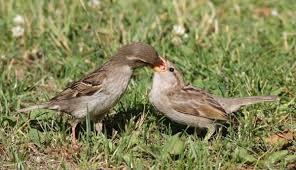hsparrow: (22, 41, 161, 149), (145, 55, 277, 146)
